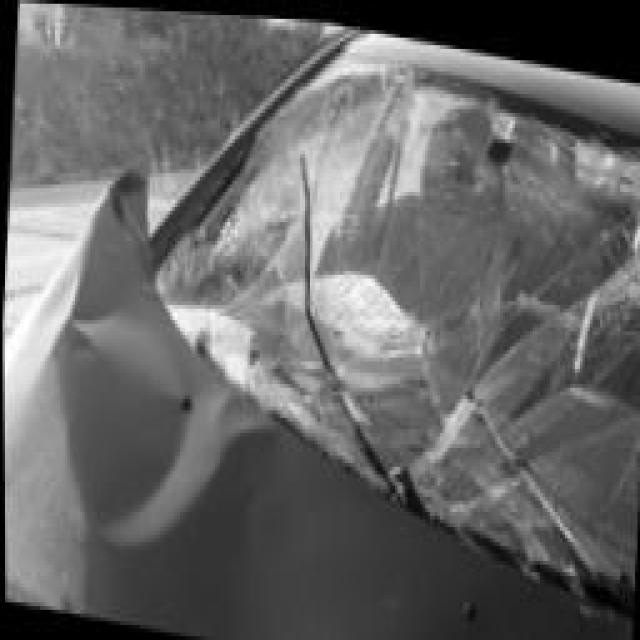Bonnet: (10, 169, 285, 640)
Windshield: (172, 19, 640, 582)
